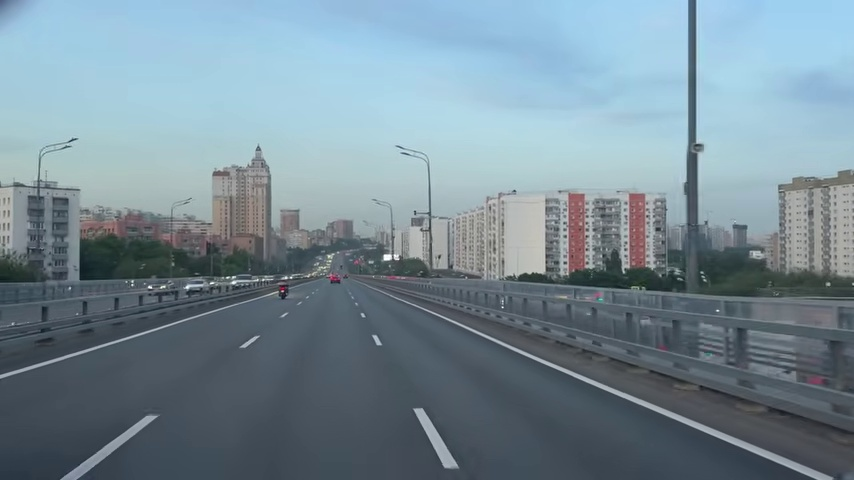apagada: (121, 412, 159, 444), (59, 134, 79, 152), (393, 142, 410, 158)
